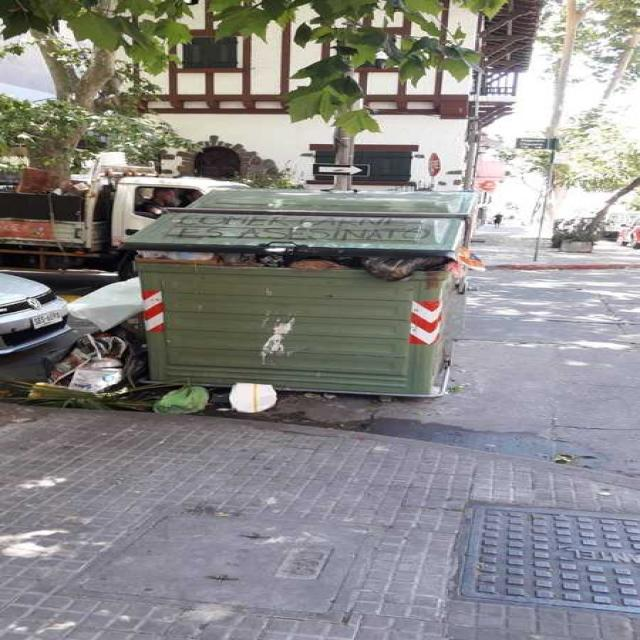garbage: (17, 348, 290, 426), (140, 243, 490, 295), (66, 282, 156, 342)
